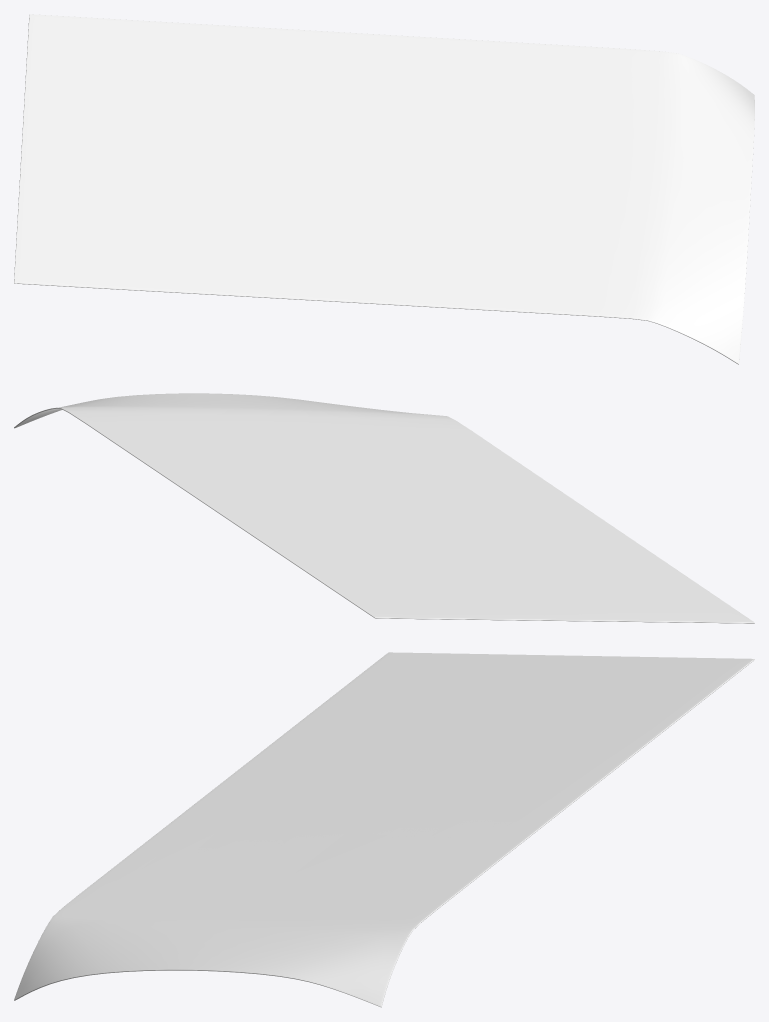
File: papier.glb
3 renders of one model, top to bottom at view 1: azimuth 30°, elevation 25°; view 2: azimuth 150°, elevation 25°; view 3: azimuth 270°, elevation 25°, orthographic.
Parts seen in each view (by area): view 1: defaultMaterial.004; view 2: defaultMaterial.004; view 3: defaultMaterial.004.
Part boxes in pixels (x1,y1,x2,y2): defaultMaterial.004: (14, 14, 754, 364); defaultMaterial.004: (14, 393, 754, 623); defaultMaterial.004: (14, 652, 754, 1007).
Size of the model in its own units: 36.15 by 7.88 by 30.97.
1 material, 1 textured.
